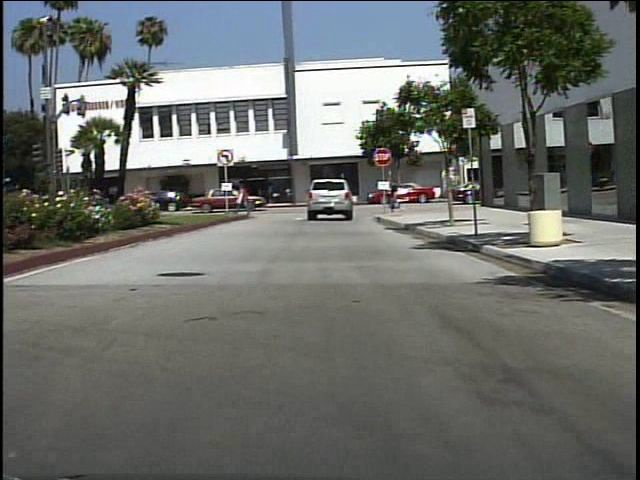person: (235, 179, 258, 221), (389, 175, 406, 215), (274, 181, 275, 207)
